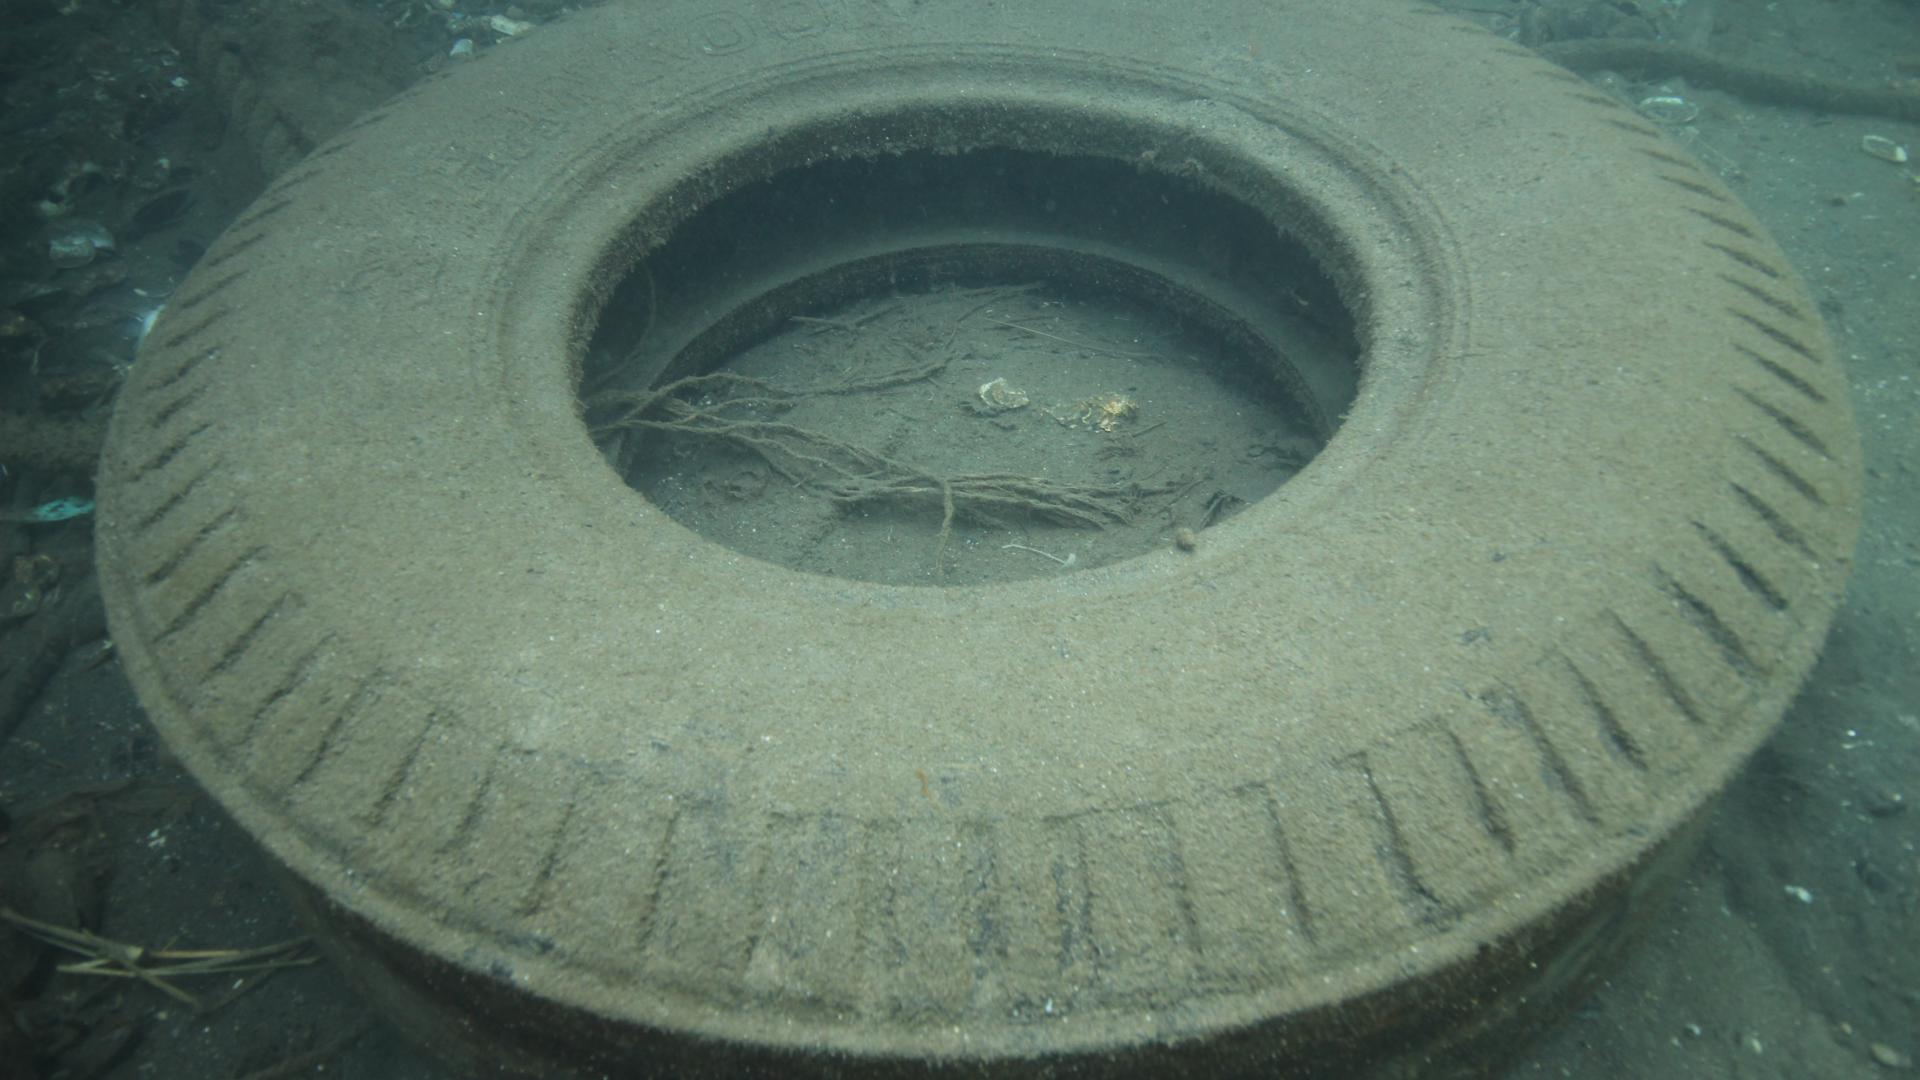tire: (98, 0, 1866, 1080)
